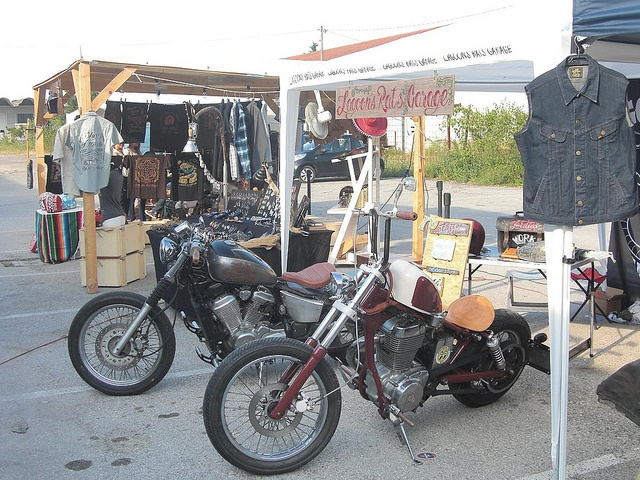non-vehicle: (202, 178, 550, 476), (67, 207, 367, 395)
